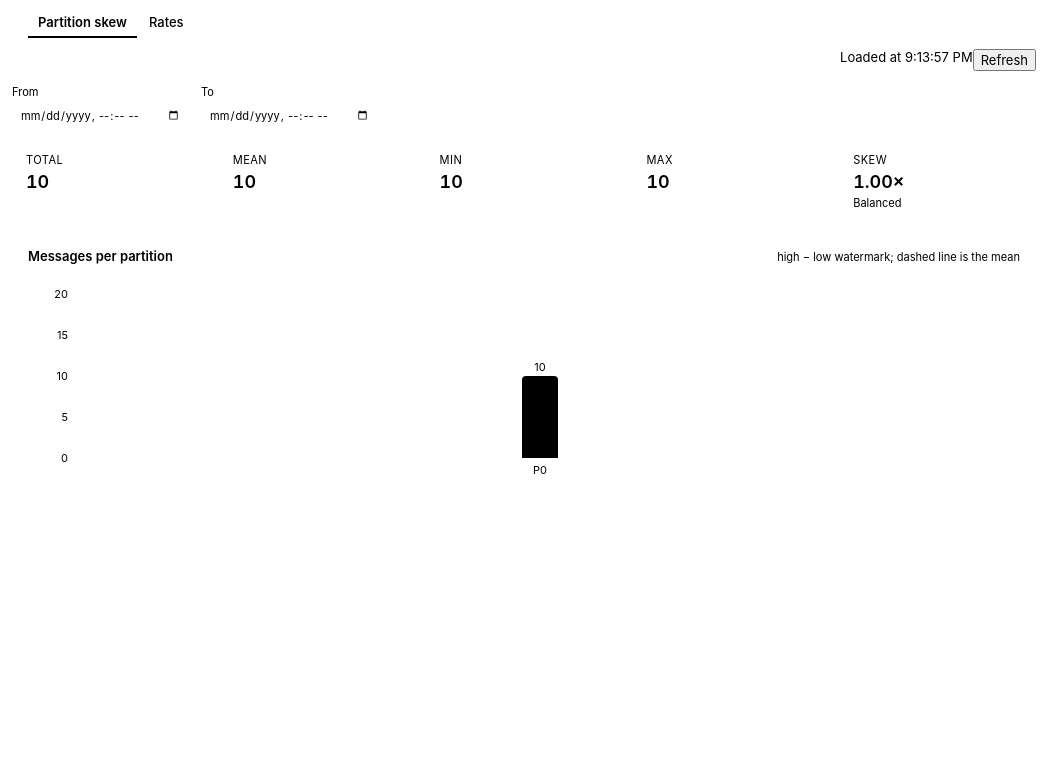
Scenario: TopicMetricsTab sub-tabs › shows the produce and consume rate charts on the Rates sub-tab
This screenshot has width=1048, height=768.
What coordinates should you click on to do the following:
click the tab "Rates"
I would click on:
 (166, 23)
Its box is [139,8,194,38].
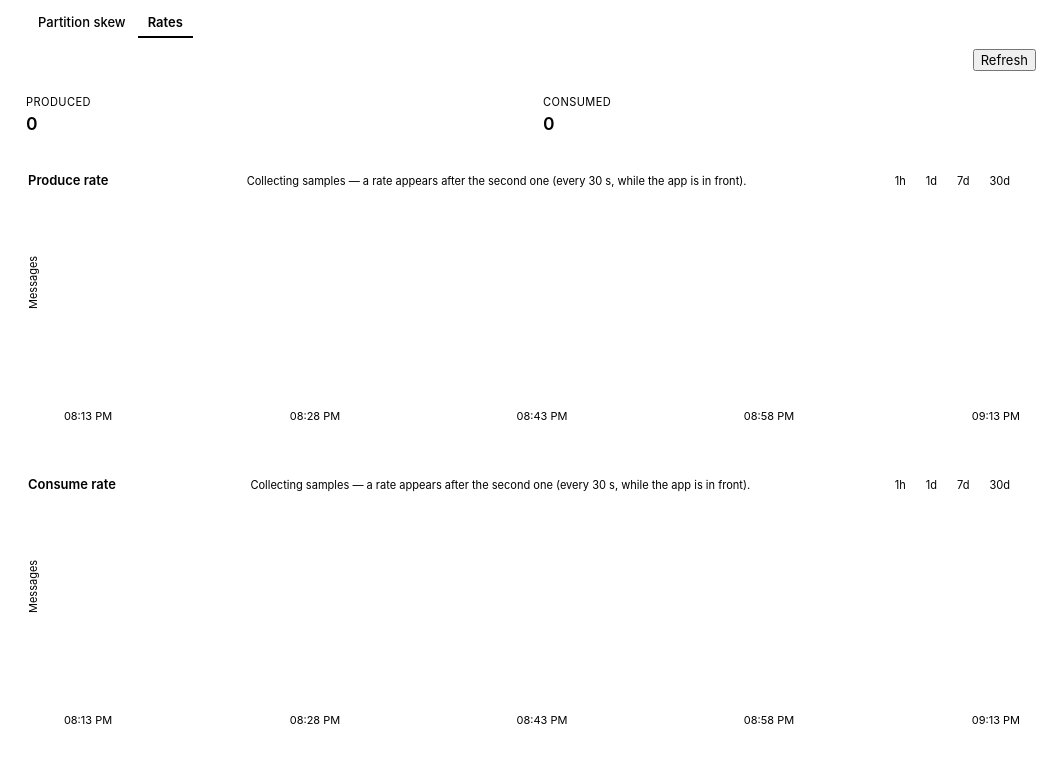
Expected: the heading "Produce rate" is shown, [28,172,108,188]
Expected: the heading "Consume rate" is shown, [28,476,116,492]
Expected: the heading "Messages per partition" is gone
